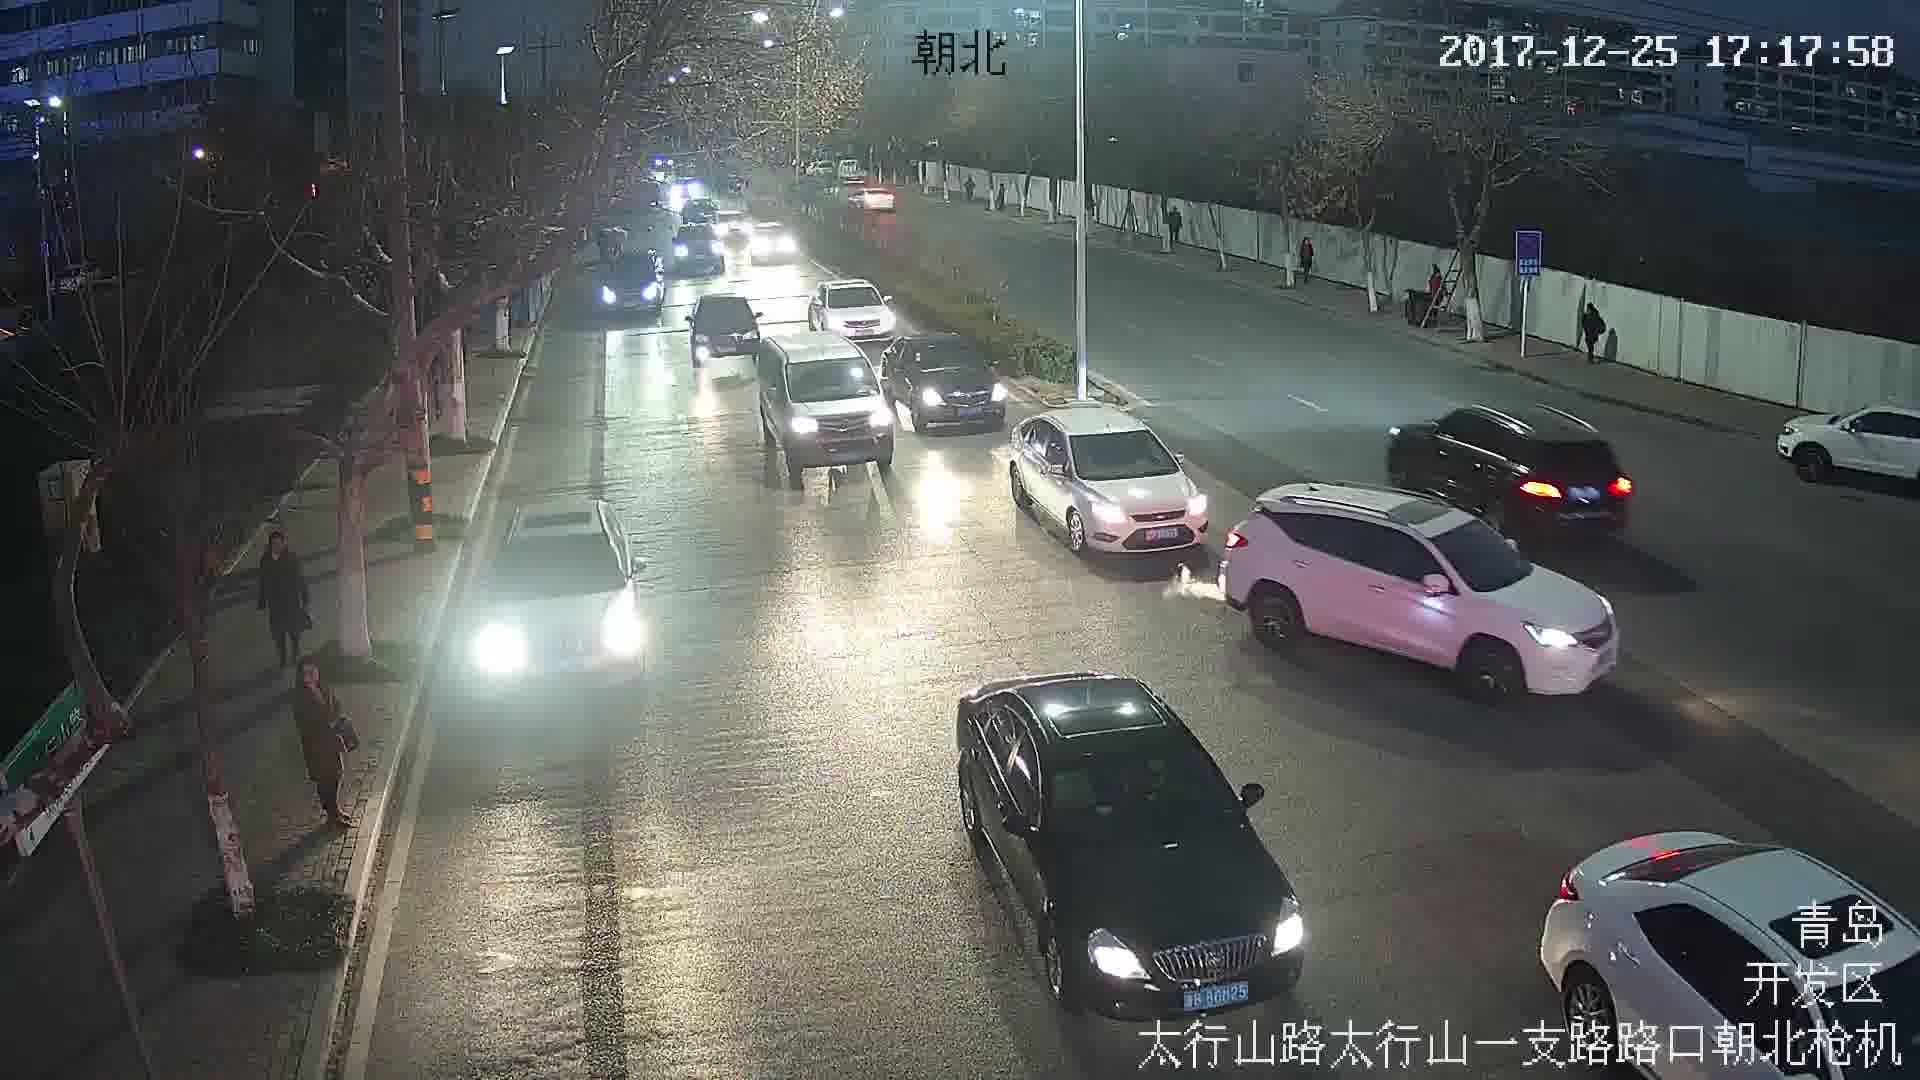car: (955, 675, 1305, 1014), (1231, 488, 1621, 705), (1395, 400, 1630, 553), (475, 506, 649, 695), (1002, 403, 1207, 555), (749, 332, 898, 470), (875, 330, 1006, 431), (807, 282, 898, 348), (696, 295, 766, 366), (602, 250, 660, 319)
person: (293, 659, 353, 831), (262, 532, 314, 662), (1581, 299, 1606, 357), (1300, 235, 1314, 281)
